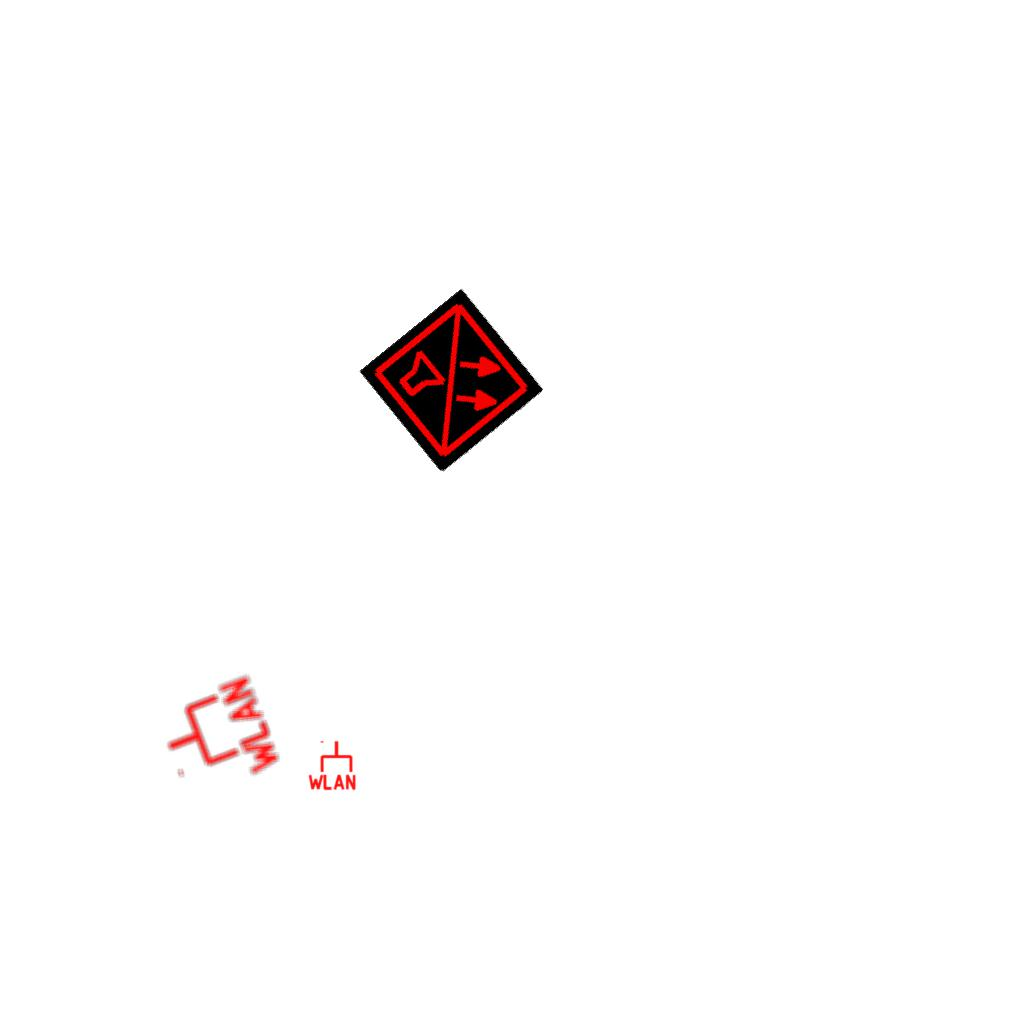OKW_Multisensormelder_(Kombination_optischer_Rauch-Kahlenmonoxid_Waerme-Melder): (359, 288, 545, 474)
WLAN: (149, 670, 286, 806), (306, 739, 358, 791)
